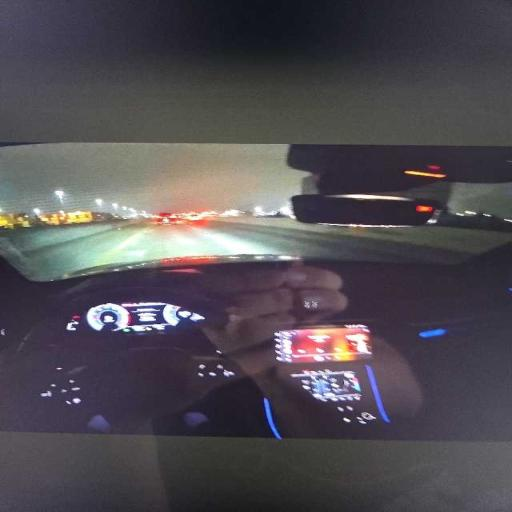car: (0, 190, 511, 505), (156, 212, 185, 224)
lane: (24, 222, 462, 279)
